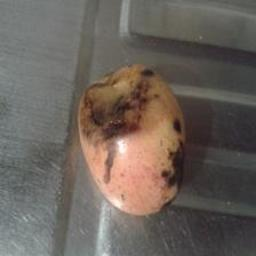Mango Rotten: (71, 66, 193, 219)
